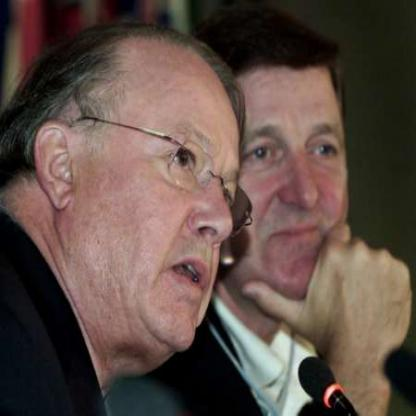face: (73, 51, 266, 368), (199, 22, 357, 307)
